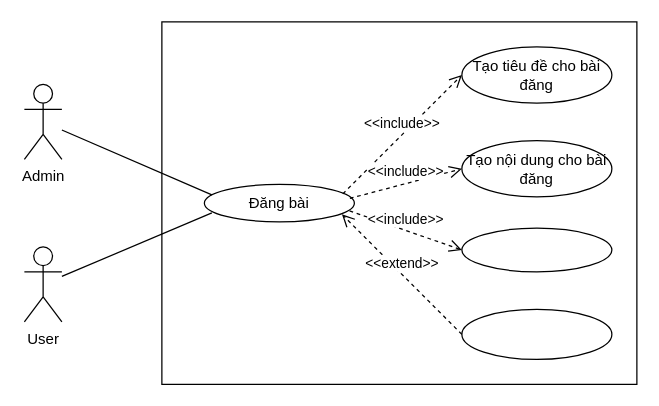
Some shapes in this 659 by 406 pixel diagram are drawn without their labels. The shapes that lost their labels are listed below. From the top down, each one's centre as x and y in pixels, then its label:
(x=536, y=249): Chọn loại bài đăng
(x=536, y=333): Thêm nhãn cho bài đăng
